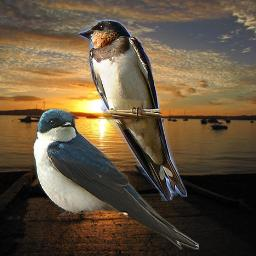Swallow: (33, 108, 199, 250), (77, 19, 187, 201)
